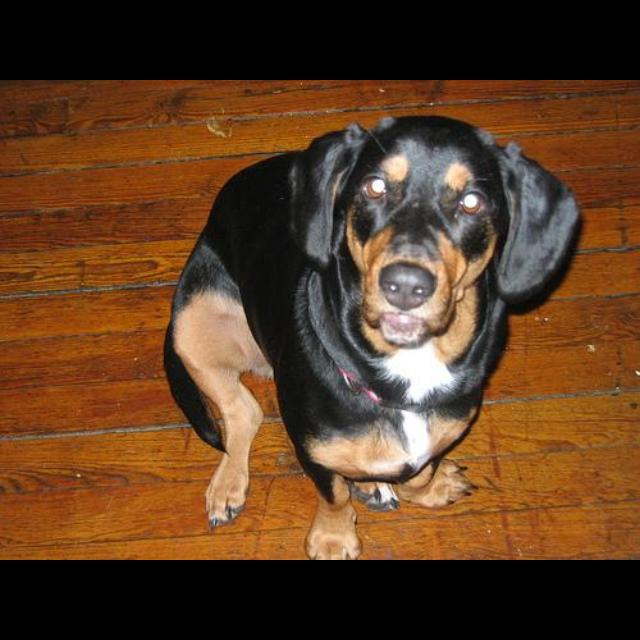rottweiler: (163, 115, 582, 560)
